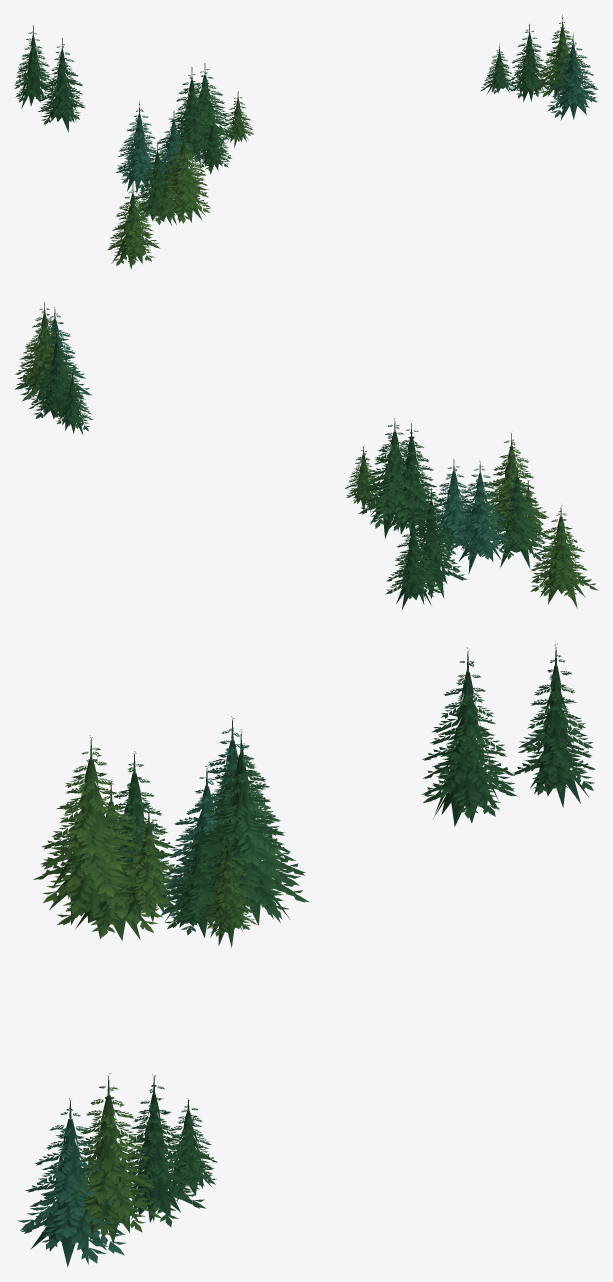
3 views of the same model, one above another, from view 1: azimuth 30°, elevation 25°; view 2: azimuth 150°, elevation 25°; view 3: azimuth 270°, elevation 25° (orthographic). The views are drawn at different scales.
Parts seen in each view (by area): view 1: pn_27; view 2: pn_27; view 3: pn_27.
Part boxes in pixels (box(x1,y1,x2,y2)): pn_27: box(14, 14, 598, 269); pn_27: box(14, 301, 598, 609); pn_27: box(17, 643, 594, 1267).
Bounding box in the file's own units: 91.53 × 28.63 × 47.63.
1 material, 1 textured.
